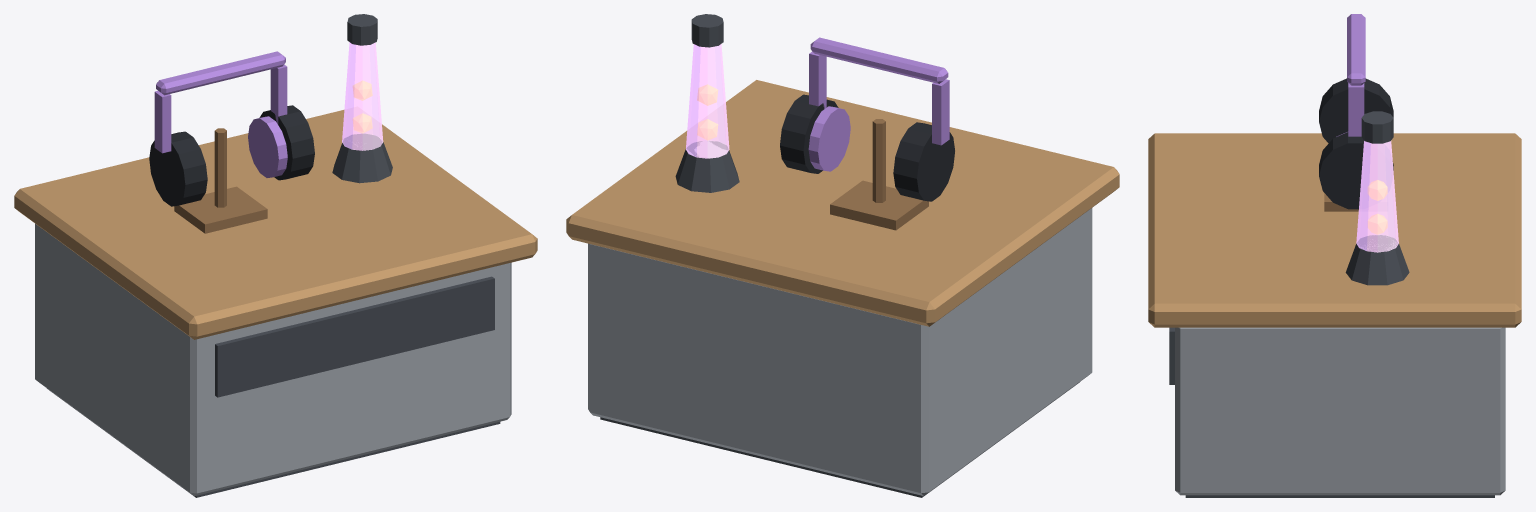
The model's file is headphones_p2_3.glb.
The picture shows the model from 3 angles, left to right: view 1: azimuth 30°, elevation 25°; view 2: azimuth 150°, elevation 25°; view 3: azimuth 270°, elevation 25°; orthographic projection. The views are drawn at different scales.
Parts seen in each view (by area): view 1: headphones_p2_3_mesh_Desk, headphones_p2_3_mesh; view 2: headphones_p2_3_mesh_Desk, headphones_p2_3_mesh; view 3: headphones_p2_3_mesh_Desk, headphones_p2_3_mesh.
Part boxes in pixels (x1=…): headphones_p2_3_mesh_Desk: x1=14, y1=110, x2=537, y2=497; headphones_p2_3_mesh: x1=149, y1=14, x2=392, y2=233; headphones_p2_3_mesh_Desk: x1=566, y1=80, x2=1119, y2=497; headphones_p2_3_mesh: x1=675, y1=14, x2=954, y2=230; headphones_p2_3_mesh_Desk: x1=1148, y1=133, x2=1521, y2=497; headphones_p2_3_mesh: x1=1319, y1=14, x2=1409, y2=285.
Bounding box in the file's own units: 0.78 × 0.74 × 0.7.
